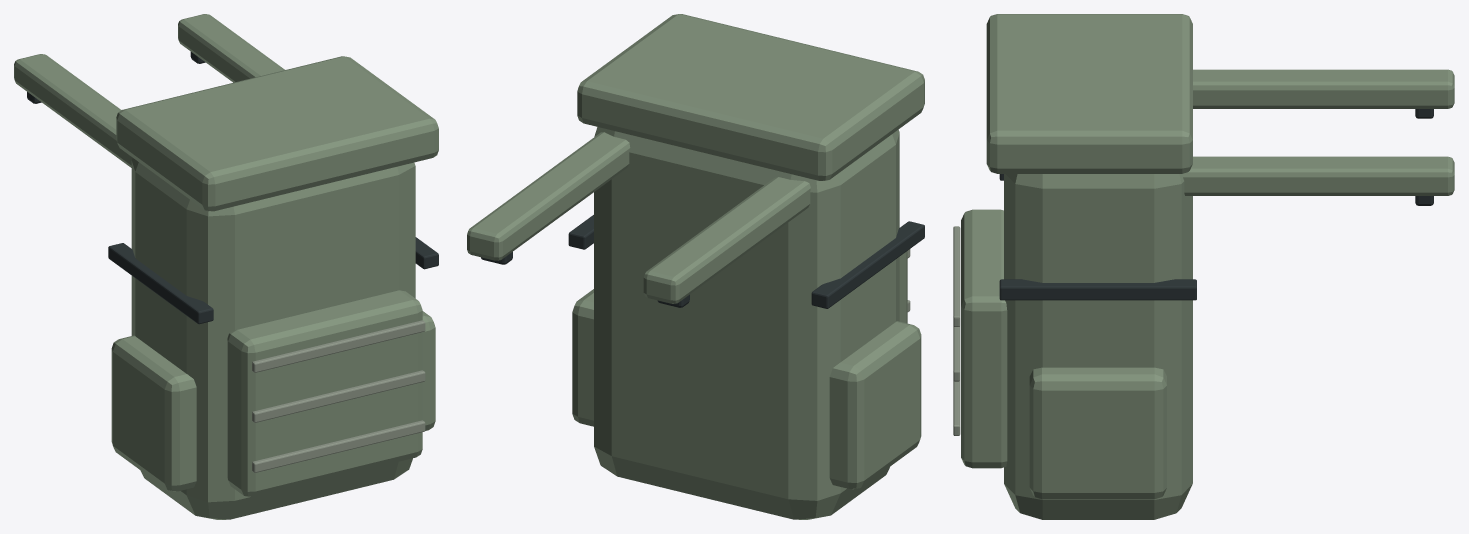
File: backpack_patrol.glb
3 renders of one model, left to right at view 1: azimuth 30°, elevation 25°; view 2: azimuth 150°, elevation 25°; view 3: azimuth 270°, elevation 25°, orthographic. The views are drawn at different scales.
Visible parts, largest first — view 1: backpack_patrol; view 2: backpack_patrol; view 3: backpack_patrol.
Boxes of the visible parts, x1=… form: backpack_patrol: x1=14, y1=14, x2=438, y2=519; backpack_patrol: x1=467, y1=14, x2=924, y2=519; backpack_patrol: x1=953, y1=14, x2=1454, y2=519.
Size of the model in its own units: 0.395 by 0.5175 by 0.584.
